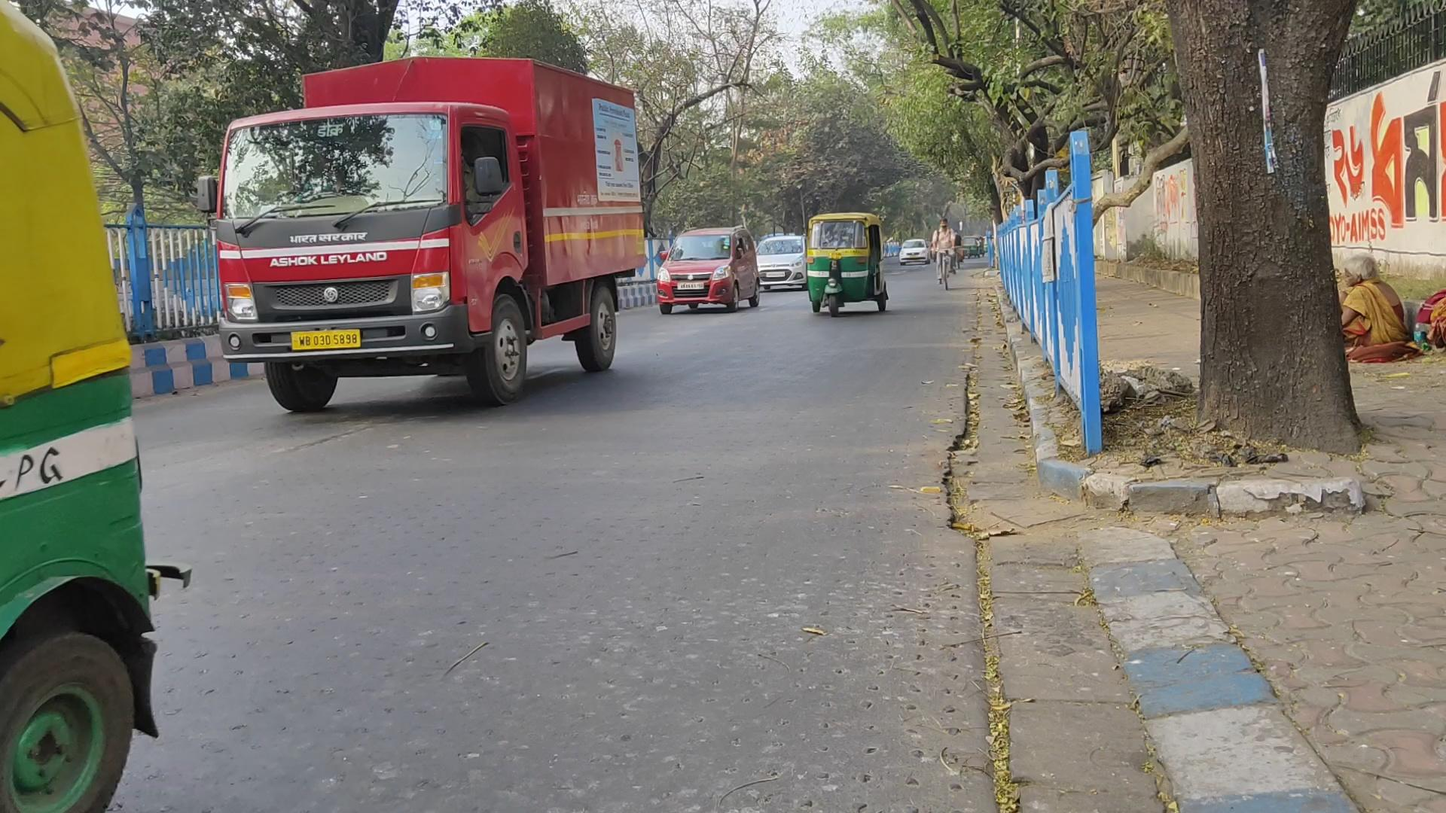Auto: (807, 212, 888, 318), (962, 235, 979, 260)
bike: (932, 218, 957, 291)
car: (655, 225, 761, 314), (755, 233, 806, 294), (897, 239, 932, 266)
van: (209, 56, 643, 410)
